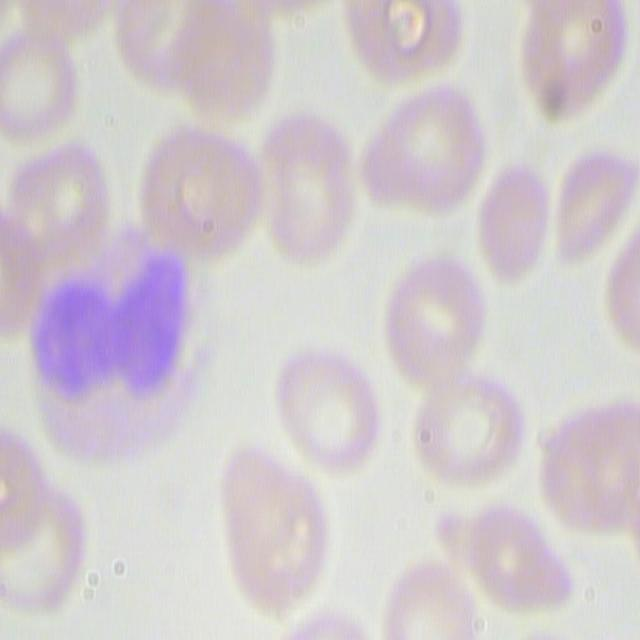RBC: (353, 78, 489, 225), (443, 482, 580, 626), (109, 0, 270, 120), (217, 453, 332, 619), (243, 108, 358, 270), (138, 119, 264, 262), (275, 344, 388, 491), (535, 386, 639, 545), (0, 113, 107, 263), (0, 430, 84, 619), (383, 239, 495, 380), (410, 363, 530, 490), (517, 0, 630, 114), (0, 0, 80, 151), (340, 0, 466, 84), (470, 160, 551, 286), (382, 567, 490, 640), (604, 216, 640, 353)
WBC: (31, 278, 237, 446)
